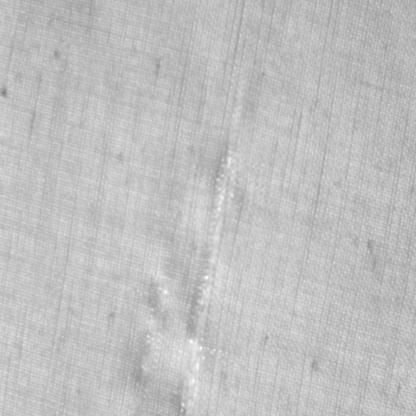thread error: (174, 139, 246, 415), (132, 252, 178, 388)
